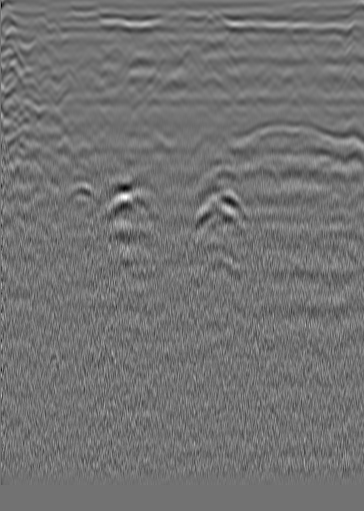가스: (101, 181, 149, 221)
상수: (298, 35, 318, 55)
우수: (174, 24, 194, 44)
